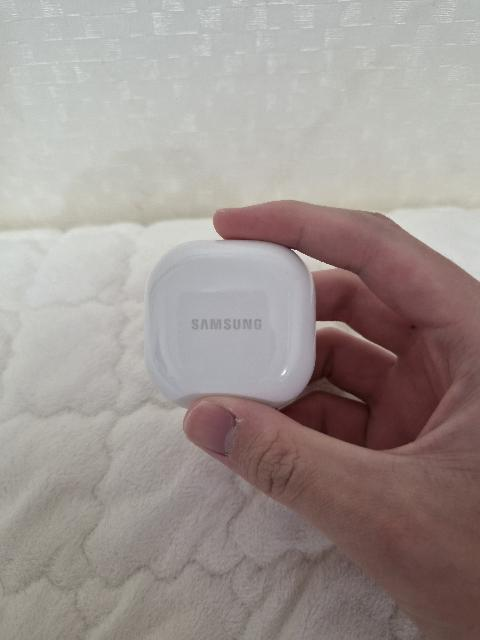earphone_case: (143, 239, 316, 410)
